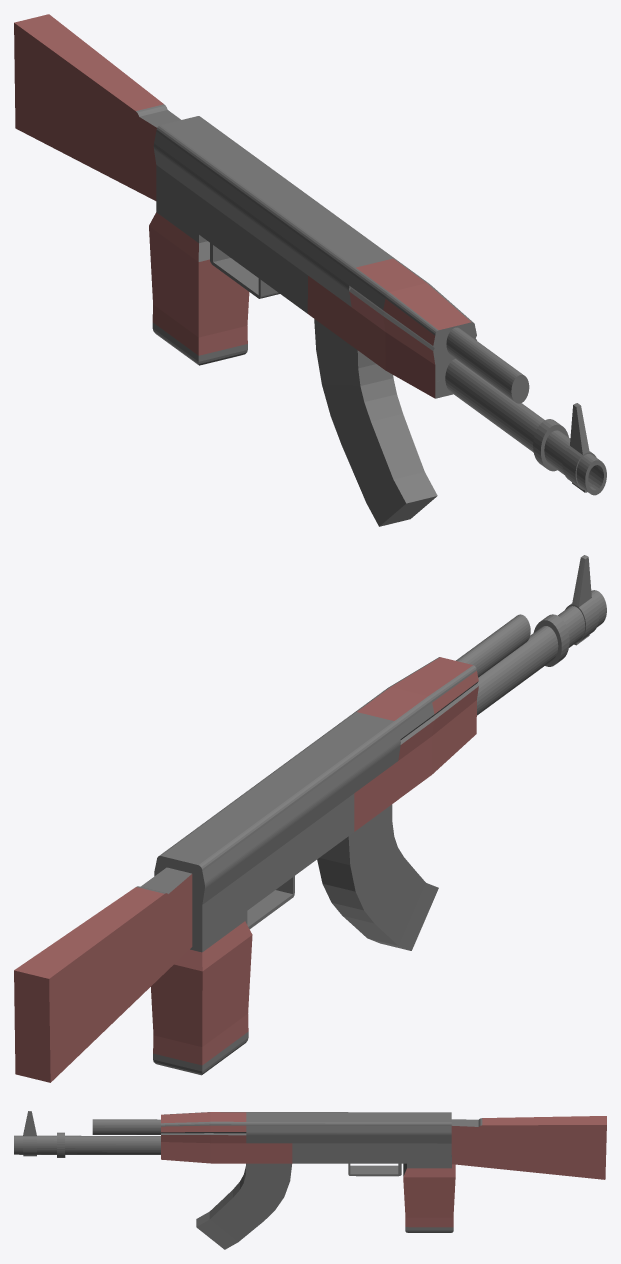
3 renders of one model, top to bottom at view 1: azimuth 30°, elevation 25°; view 2: azimuth 150°, elevation 25°; view 3: azimuth 270°, elevation 25°, orthographic. The views are drawn at different scales.
Visible parts, largest first — view 1: Cube; view 2: Cube; view 3: Cube.
Boxes of the visible parts, x1,y1,x2,y2 form: Cube: (14,14,606,526); Cube: (14,555,606,1082); Cube: (14,1111,606,1249).
Bounding box in the file's own units: 233 × 1069 × 4290.
